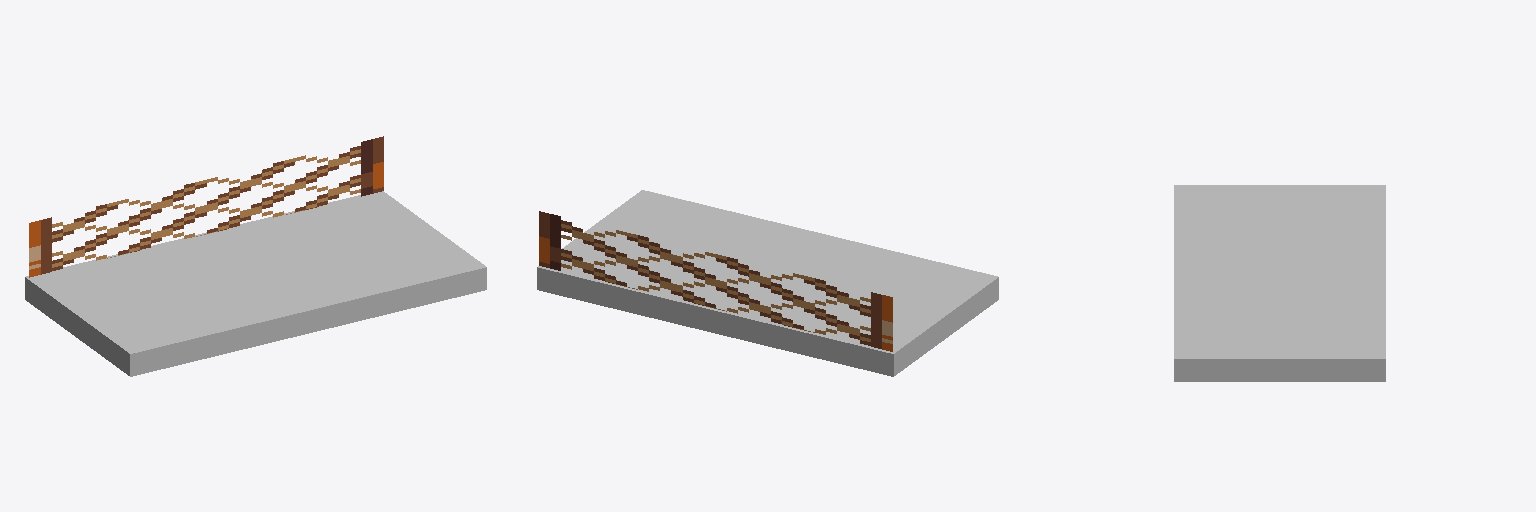
3 views of the same model, side by side, from view 1: azimuth 30°, elevation 25°; view 2: azimuth 150°, elevation 25°; view 3: azimuth 270°, elevation 25° (orthographic).
Parts seen in each view (by area): view 1: path_Cube.012, grate.001_Plane.001; view 2: path_Cube.012, grate.001_Plane.001; view 3: path_Cube.012.
Boxes of the visible parts, x1,y1,x2,y2 form: path_Cube.012: [25, 191, 486, 376]; grate.001_Plane.001: [29, 136, 383, 277]; path_Cube.012: [537, 190, 998, 376]; grate.001_Plane.001: [539, 211, 892, 351]; path_Cube.012: [1174, 185, 1385, 381].
Bounding box in the file's own units: 15.77 × 3.28 × 8.1.
2 materials, 1 textured.